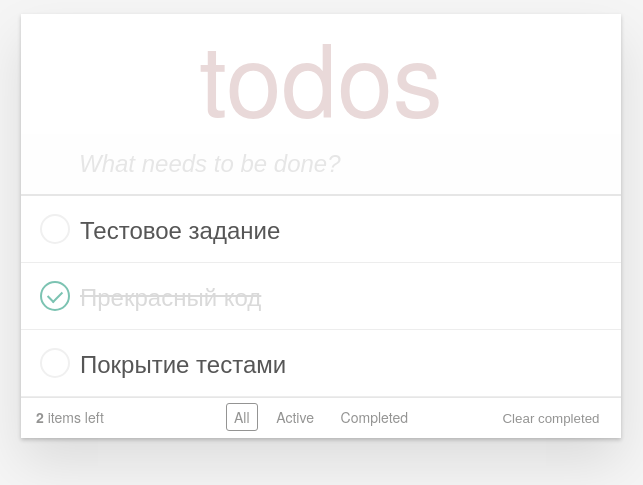
Test: App Component › filters completed items
The width and height of the screenshot is (643, 485).
Click the link "Completed".
click(374, 417)  # box 341,407 -> 408,427
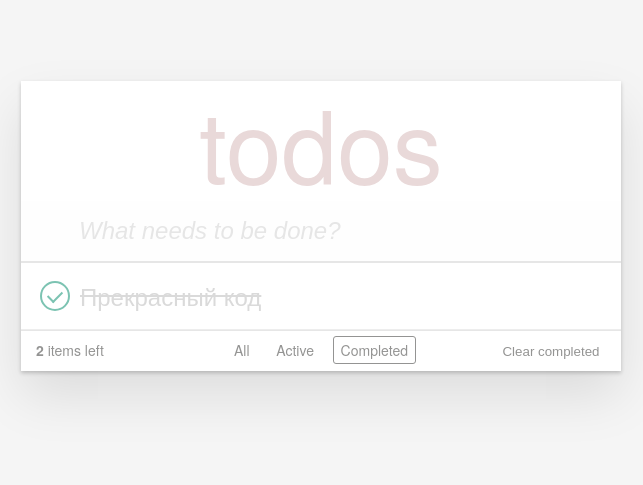
Check: the text "Тестовое задание" is gone
